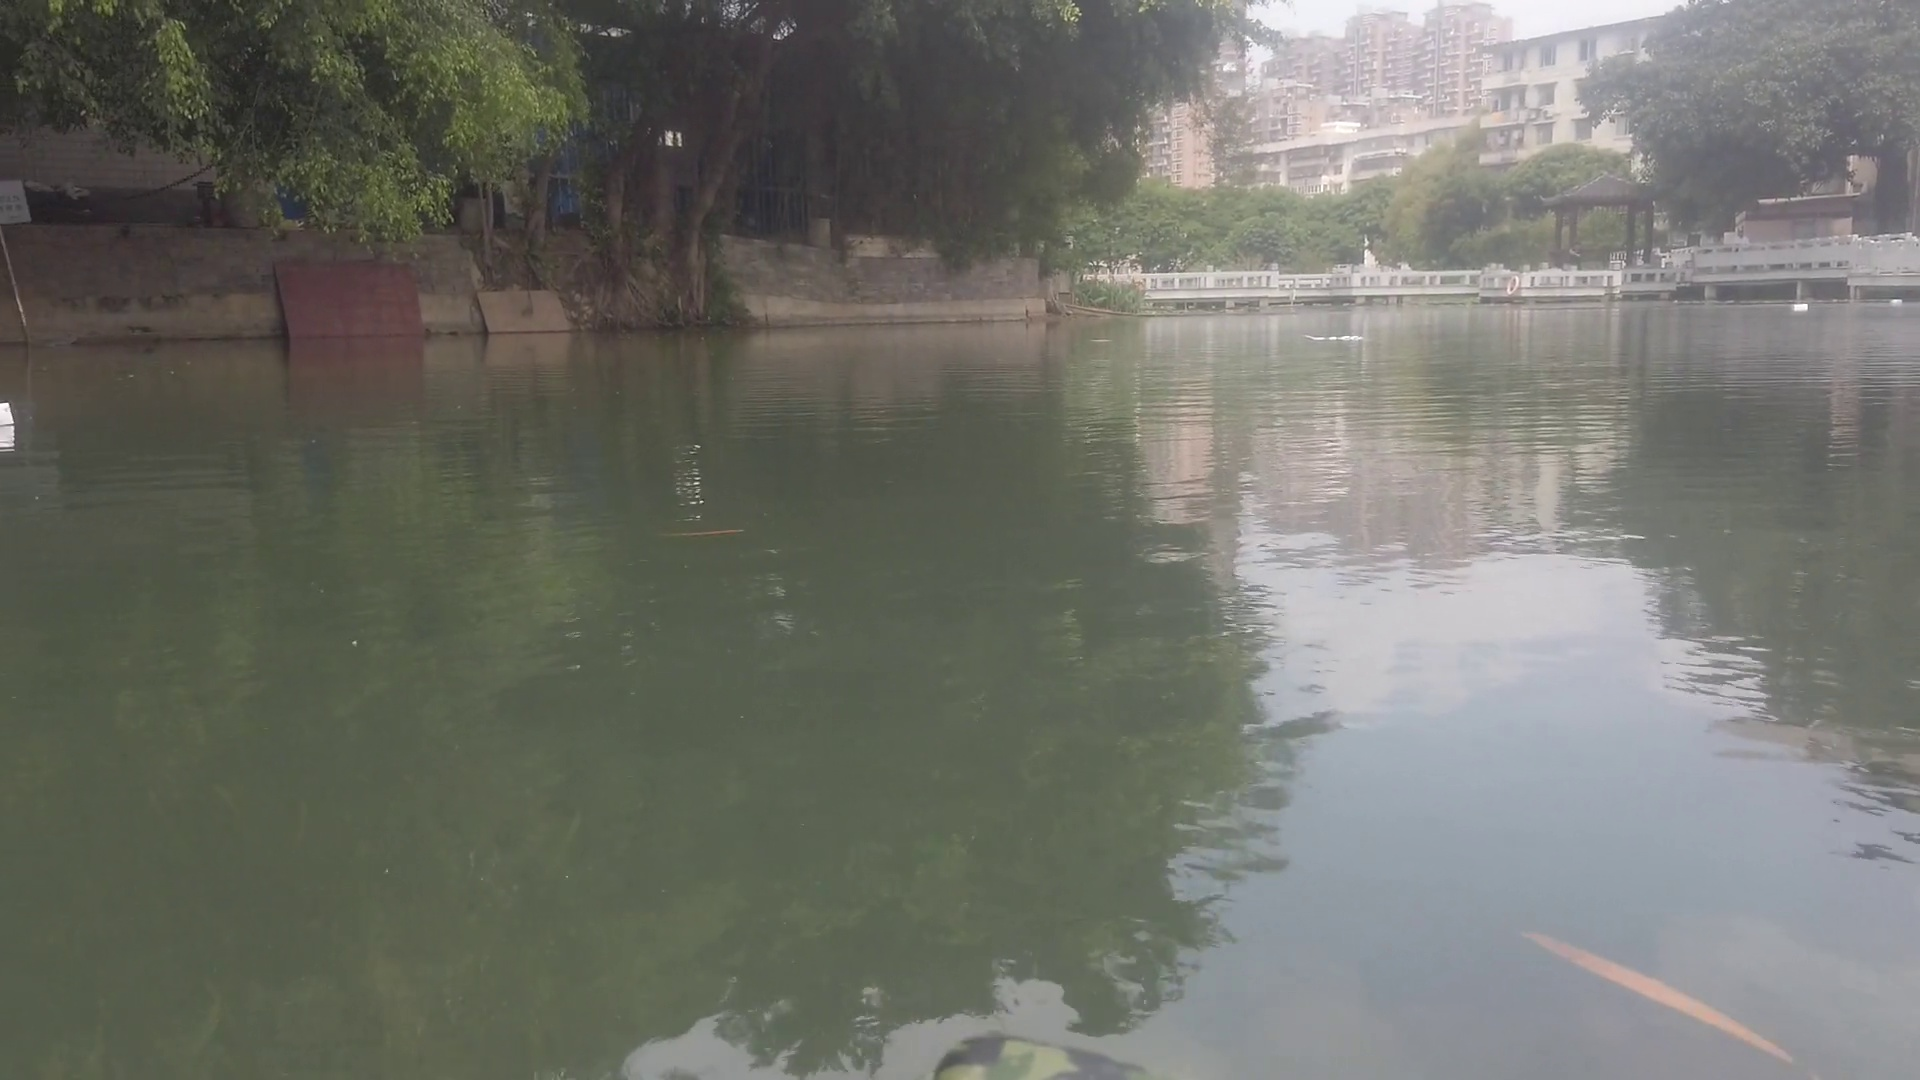carton: (1789, 302, 1813, 314), (1890, 297, 1904, 309)
paper: (1304, 328, 1364, 345)
